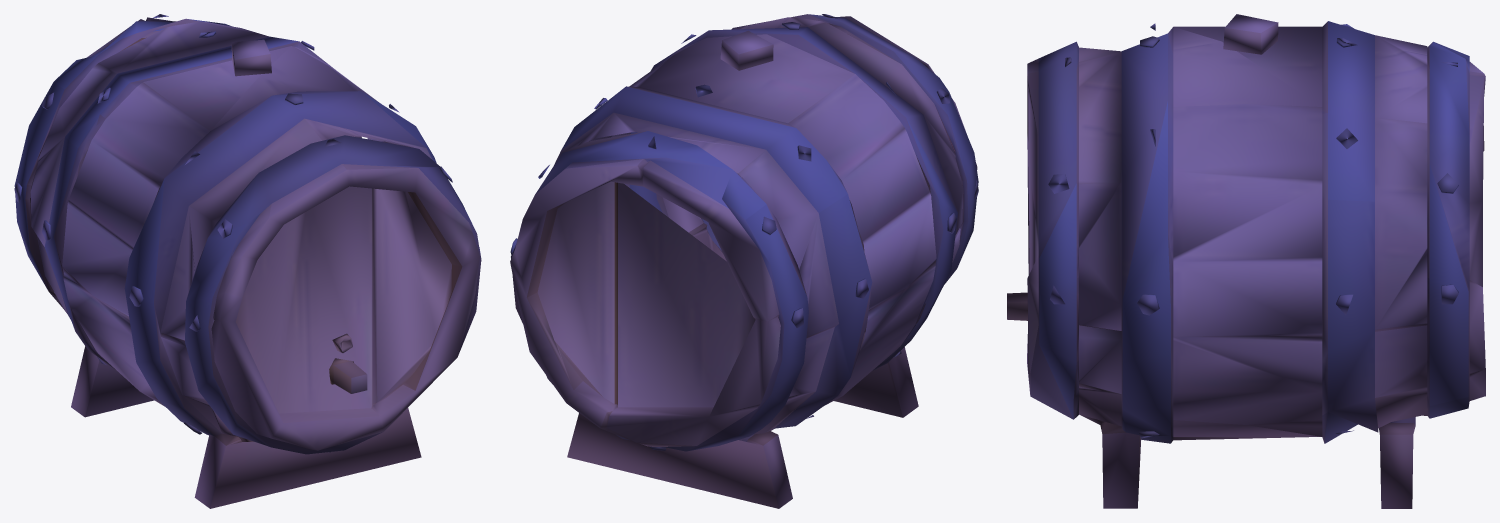
The model's file is model.progressive.glb.
The picture shows the model from 3 angles, left to right: view 1: azimuth 30°, elevation 25°; view 2: azimuth 150°, elevation 25°; view 3: azimuth 270°, elevation 25°; orthographic projection. The views are drawn at different scales.
Visible parts, largest first — view 1: material; view 2: material; view 3: material.
Part boxes in pixels (box(x1,y1,x2,y2)): material: box(14, 14, 481, 508); material: box(510, 14, 978, 508); material: box(1007, 14, 1485, 508).
Size of the model in its own units: 1.64 by 1.88 by 1.9.
Materials: 1 (1 with a texture image).
